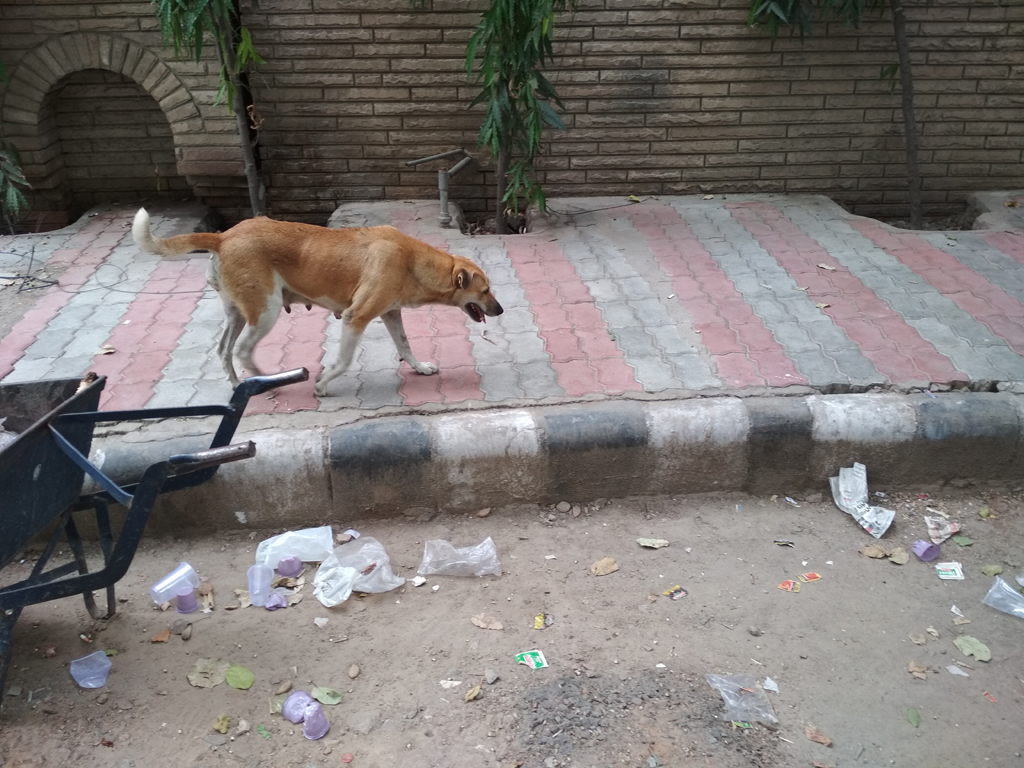dog: (131, 203, 503, 399)
